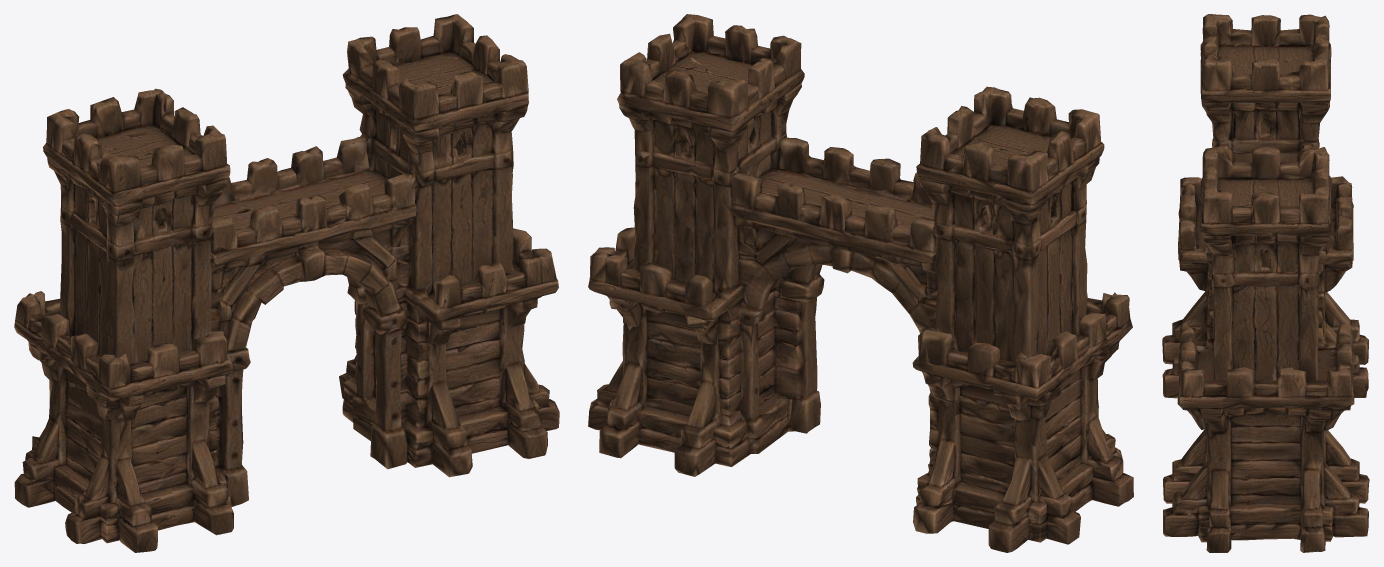
File: gate_large.glb
3 views of the same model, side by side, from view 1: azimuth 30°, elevation 25°; view 2: azimuth 150°, elevation 25°; view 3: azimuth 270°, elevation 25° (orthographic). The views are drawn at different scales.
Size of the model in its own units: 1.9 by 1.42 by 0.7756.
1 material, 1 textured.
